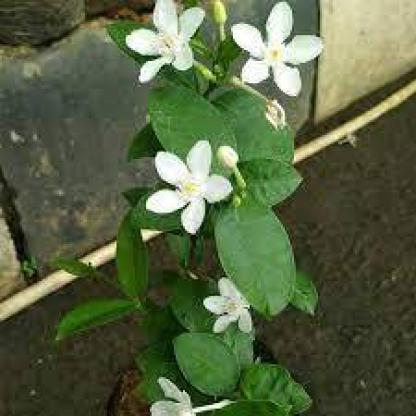Melati: (130, 131, 236, 229), (231, 5, 327, 103), (190, 249, 269, 345), (116, 1, 201, 77)
